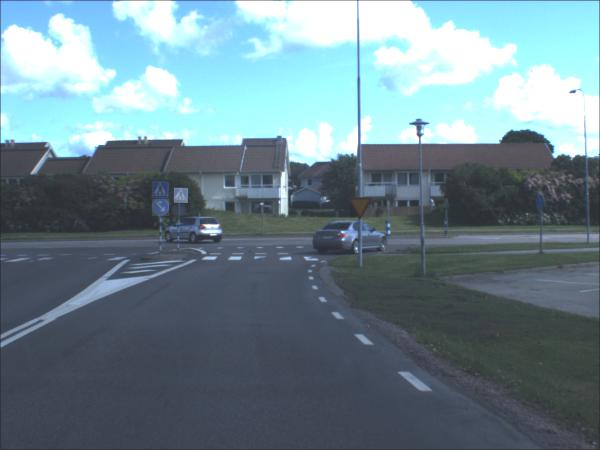GIVE_WAY: (351, 199, 373, 221)
PASS_RIGHT_SIDE: (154, 201, 172, 219)
PEDESTRIAN_CROSSING: (154, 184, 170, 200), (175, 189, 190, 205)
